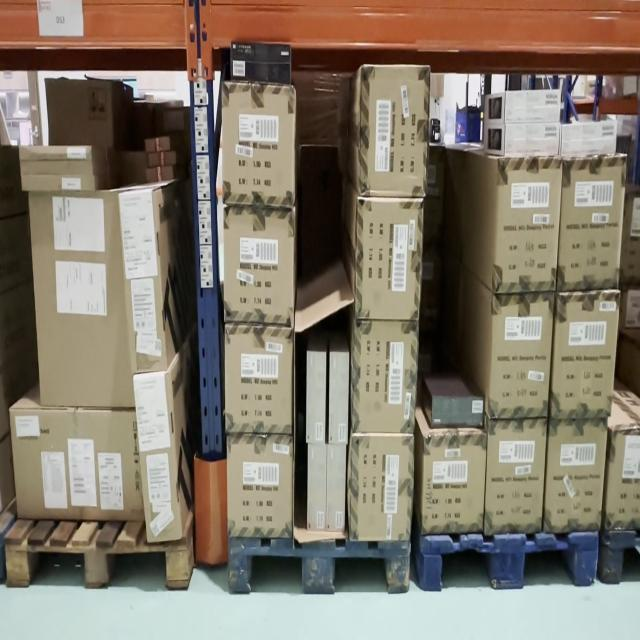box: (36, 193, 124, 403), (16, 410, 139, 520), (362, 65, 426, 197), (222, 86, 295, 200), (223, 206, 293, 323), (362, 197, 422, 322), (556, 292, 615, 418), (563, 156, 620, 286), (501, 157, 557, 289), (122, 196, 160, 385), (225, 327, 291, 434), (357, 320, 418, 434), (494, 294, 550, 417), (140, 364, 179, 535), (353, 435, 413, 543), (488, 419, 544, 532), (228, 436, 291, 536), (548, 421, 604, 531), (425, 434, 484, 533), (46, 79, 98, 143), (611, 432, 640, 529), (232, 46, 292, 82), (563, 123, 616, 156), (327, 442, 346, 532), (504, 91, 560, 121), (621, 193, 639, 284), (331, 355, 349, 443), (506, 125, 561, 153), (434, 398, 485, 428), (310, 353, 325, 440), (310, 444, 325, 528), (24, 174, 92, 191), (21, 146, 88, 162)
